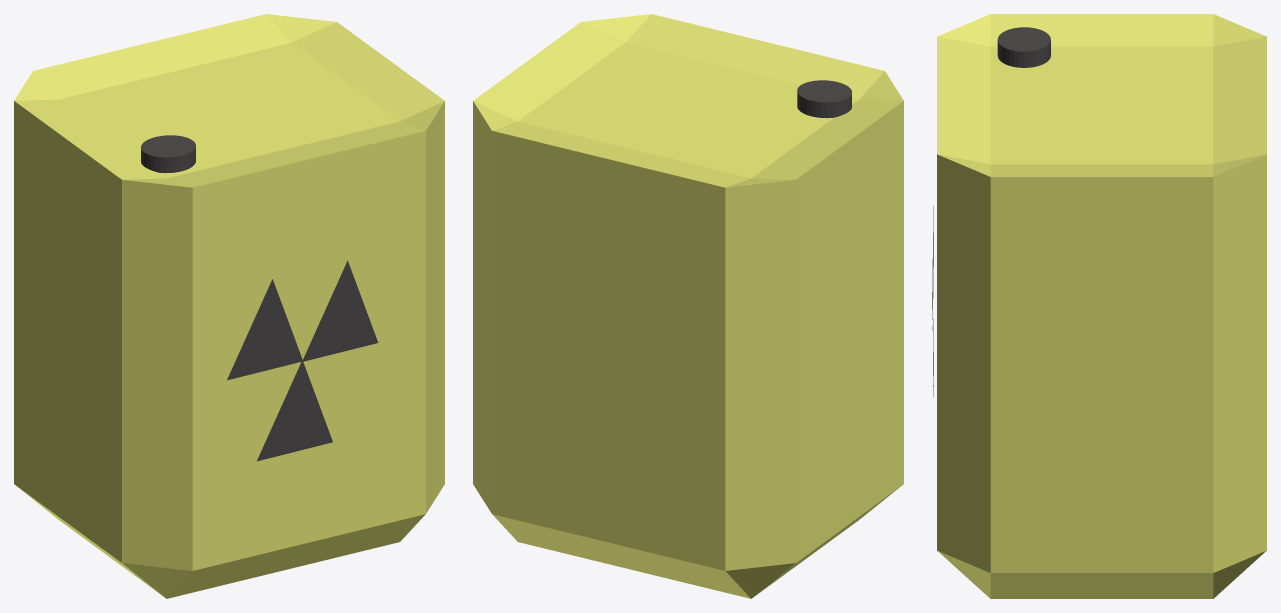
The model's file is nuclearwaste.fbx.
The picture shows the model from 3 angles, left to right: view 1: azimuth 30°, elevation 25°; view 2: azimuth 150°, elevation 25°; view 3: azimuth 270°, elevation 25°; orthographic projection. The views are drawn at different scales.
Visible parts, largest first — view 1: Cube, Cube.002, Cube.003, Cube.001, Cylinder.001; view 2: Cube, Cylinder.001; view 3: Cube, Cylinder.001.
Boxes of the visible parts, bbox=[...] form: Cube: bbox=[14, 14, 444, 598]; Cube.002: bbox=[302, 260, 378, 361]; Cube.003: bbox=[257, 362, 332, 461]; Cube.001: bbox=[227, 279, 302, 380]; Cylinder.001: bbox=[141, 135, 195, 173]; Cube: bbox=[473, 14, 903, 598]; Cylinder.001: bbox=[797, 80, 851, 118]; Cube: bbox=[937, 14, 1266, 598]; Cylinder.001: bbox=[997, 27, 1050, 67].
Size of the model in its own units: 6282 by 8105 by 5455.
